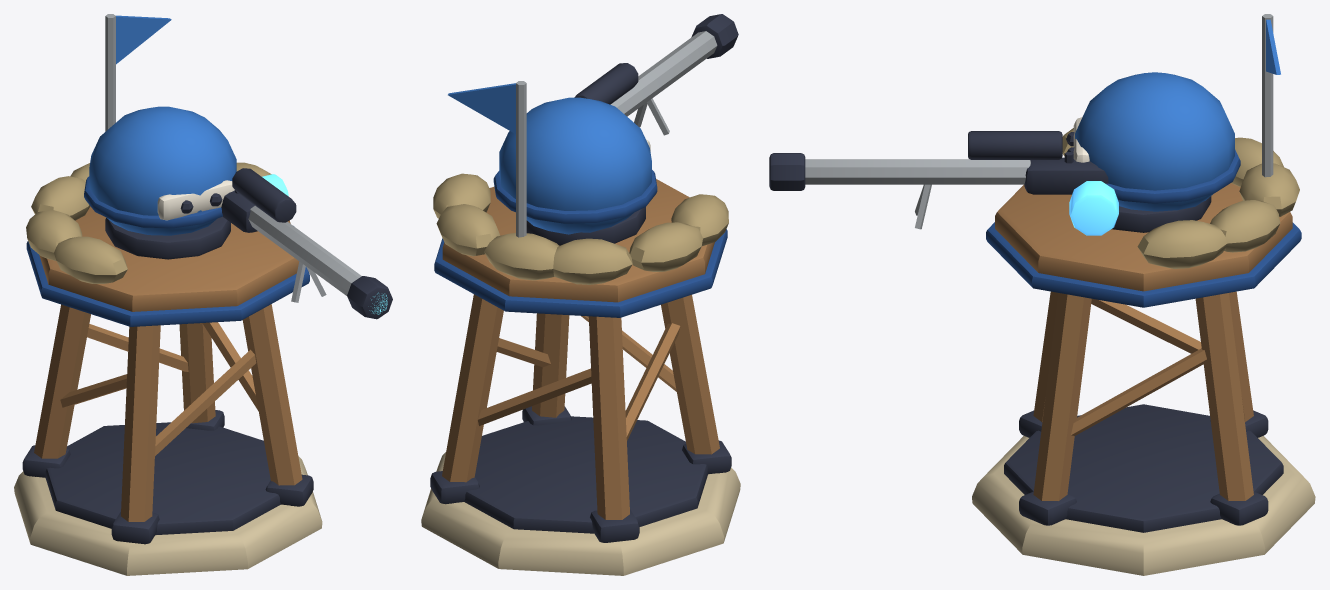
The model's file is Sniper.fbx.
3 views of the same model, side by side, from view 1: azimuth 30°, elevation 25°; view 2: azimuth 150°, elevation 25°; view 3: azimuth 270°, elevation 25° (orthographic). The views are drawn at different scales.
Visible parts, largest first — view 1: Base, Head; view 2: Base, Head; view 3: Base, Head.
Part boxes in pixels (left/top/right/bottom): Base: left=14, top=14, right=322, bottom=575; Head: left=84, top=106, right=392, bottom=319; Base: left=421, top=81, right=740, bottom=575; Head: left=493, top=14, right=738, bottom=245; Base: left=972, top=14, right=1315, bottom=575; Head: left=769, top=72, right=1240, bottom=235.
Size of the model in its own units: 1.52 by 2.4 by 2.42.
